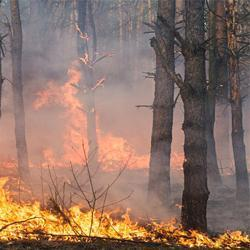fire: (5, 209, 137, 241), (61, 86, 87, 161), (102, 136, 129, 169)
